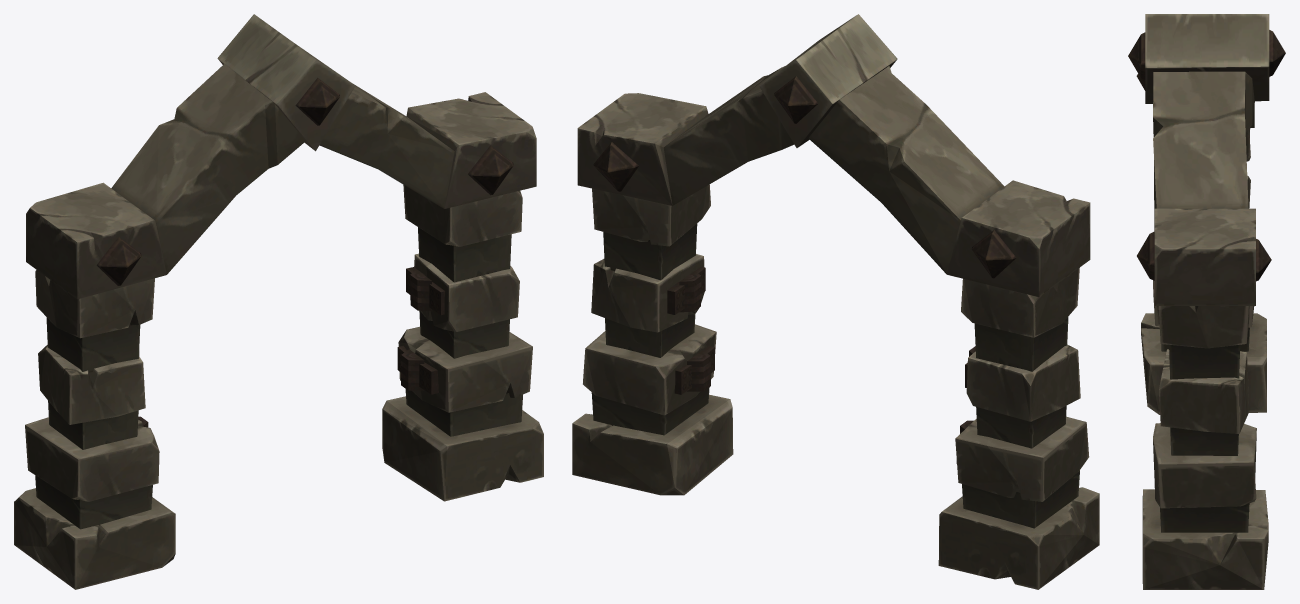
File: humgraveyard_gate_01.fbx
3 views of the same model, side by side, from view 1: azimuth 30°, elevation 25°; view 2: azimuth 150°, elevation 25°; view 3: azimuth 270°, elevation 25° (orthographic).
Parts seen in each view (by area): view 1: obj0.560; view 2: obj0.560; view 3: obj0.560.
Boxes of the visible parts, x1=… form: obj0.560: x1=14, y1=14, x2=543, y2=589; obj0.560: x1=572, y1=14, x2=1099, y2=589; obj0.560: x1=1128, y1=14, x2=1285, y2=589.
Size of the model in its own units: 6.2 by 5.83 by 1.79.
